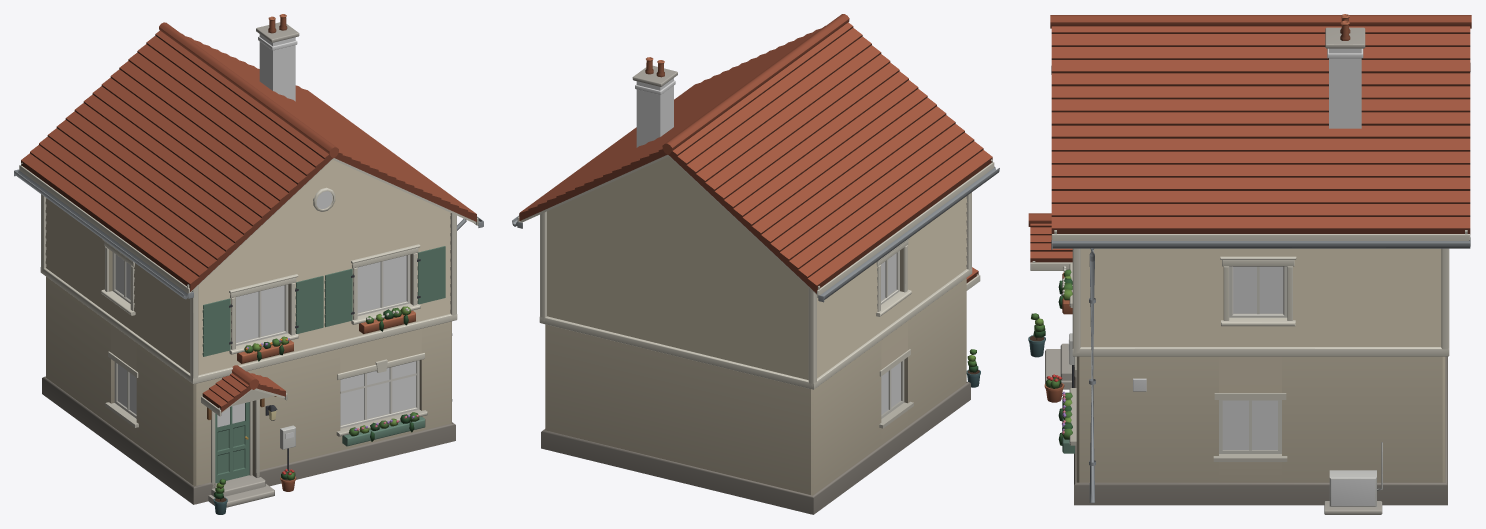
File: HouseGable.fbx
3 views of the same model, side by side, from view 1: azimuth 30°, elevation 25°; view 2: azimuth 150°, elevation 25°; view 3: azimuth 270°, elevation 25° (orthographic). The views are drawn at different scales.
Visible parts, largest first — view 1: HouseGable; view 2: HouseGable; view 3: HouseGable.
Boxes of the visible parts, <box> form: HouseGable: <box>14,14,483,514</box>; HouseGable: <box>512,14,999,514</box>; HouseGable: <box>1028,14,1471,514</box>.
Size of the model in its own units: 8.14 by 9.33 by 8.42.
